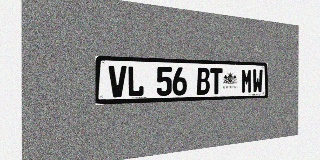5: (157, 67, 172, 96)
6: (173, 67, 187, 96)
B: (197, 68, 210, 95)
L: (127, 66, 144, 97)
M: (241, 69, 252, 93)
T: (210, 68, 222, 94)
V: (109, 65, 127, 98)
W: (252, 69, 263, 93)
